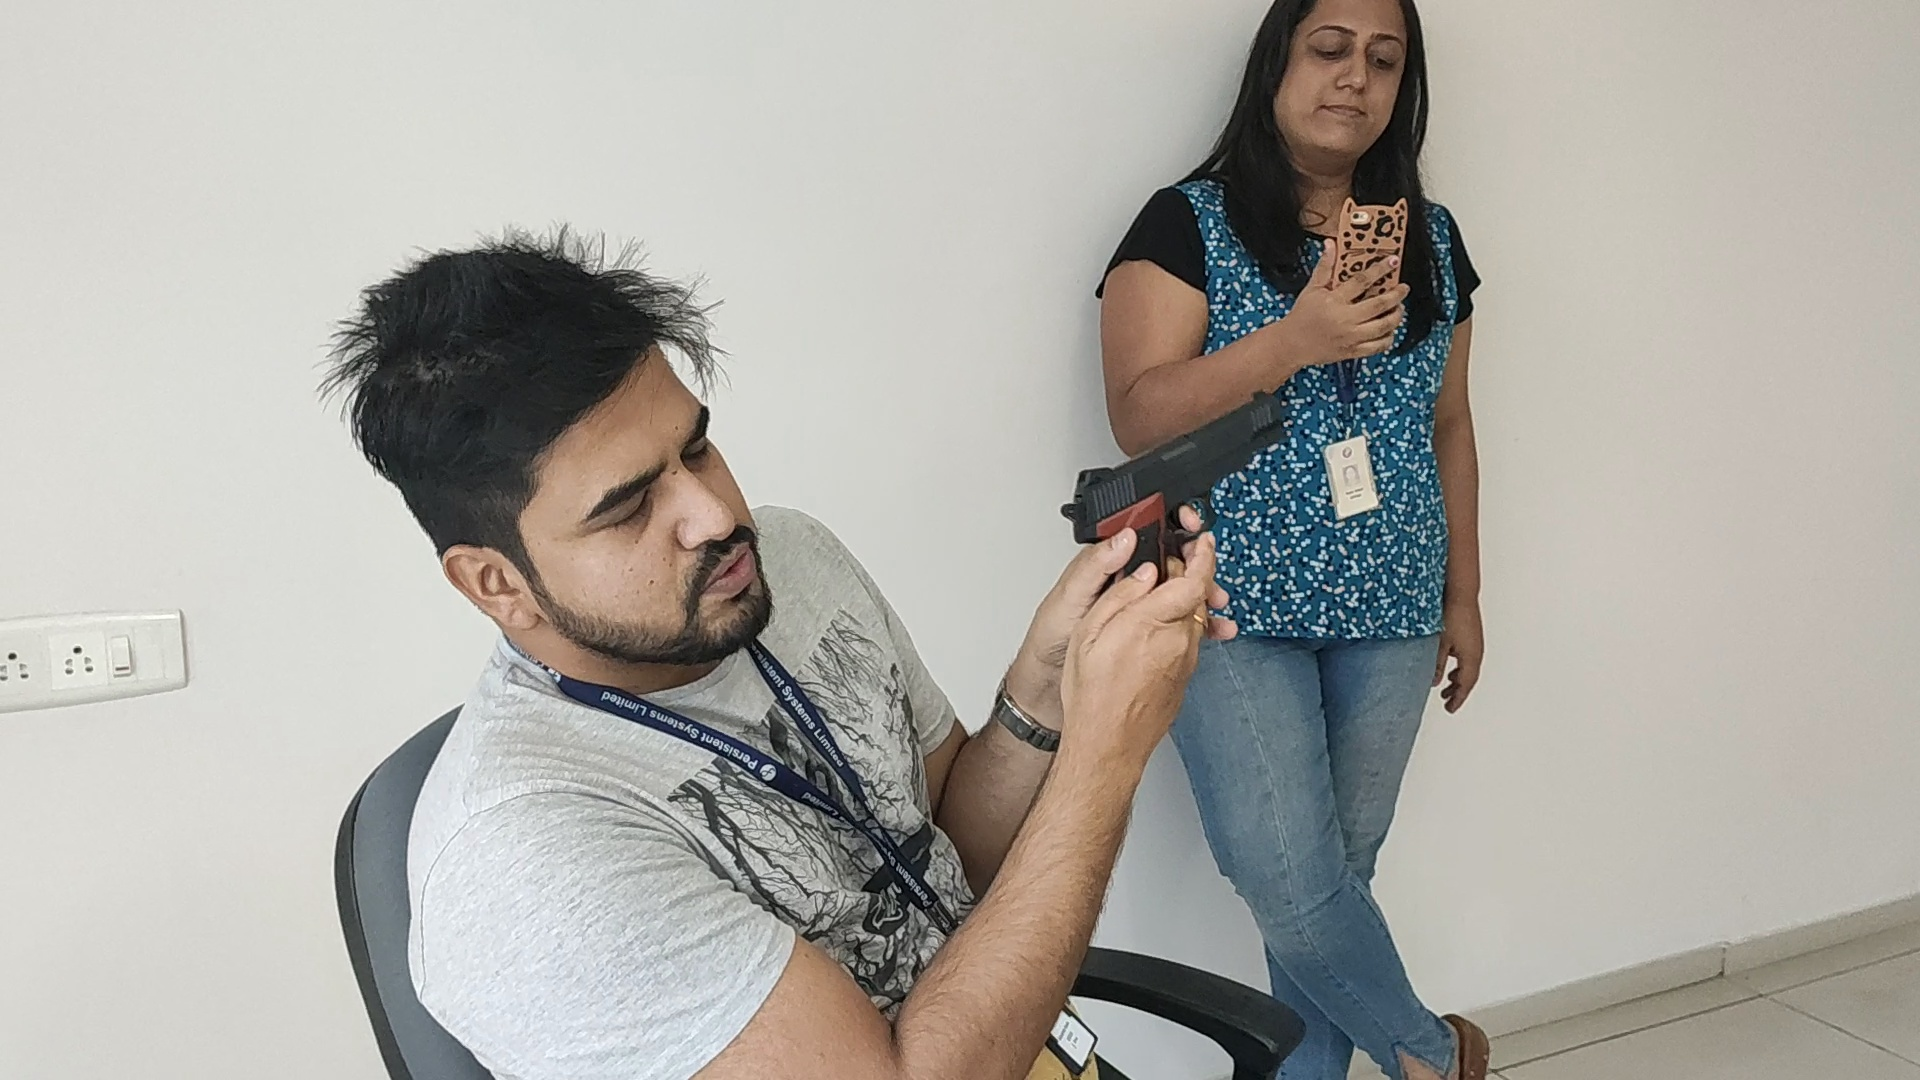gun: (1060, 389, 1287, 530)
